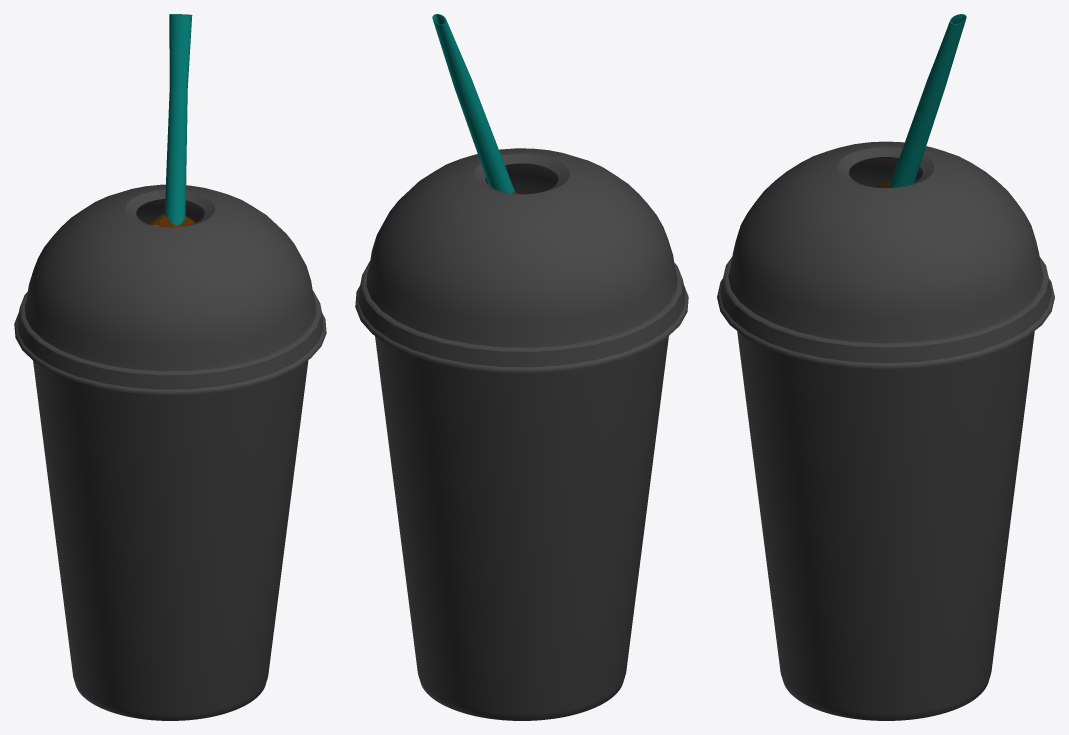
Rendered from creamed_coffee.glb.
3 views of the same model, side by side, from view 1: azimuth 30°, elevation 25°; view 2: azimuth 150°, elevation 25°; view 3: azimuth 270°, elevation 25° (orthographic). The views are drawn at different scales.
Visible parts, largest first — view 1: Cup_l, Cap_l, Straw_l; view 2: Cup_l, Cap_l, Straw_l; view 3: Cup_l, Cap_l, Straw_l.
Boxes of the visible parts, x1,y1,x2,y2 form: Cup_l: [33, 360, 308, 720]; Cap_l: [14, 184, 326, 395]; Straw_l: [164, 14, 192, 225]; Cup_l: [375, 336, 668, 720]; Cap_l: [355, 148, 688, 373]; Straw_l: [432, 14, 514, 193]; Cup_l: [737, 331, 1034, 720]; Cap_l: [717, 141, 1054, 369]; Straw_l: [888, 14, 966, 187].
Size of the model in its own units: 0.0938 by 0.2095 by 0.0938.
2 materials, 2 textured.
